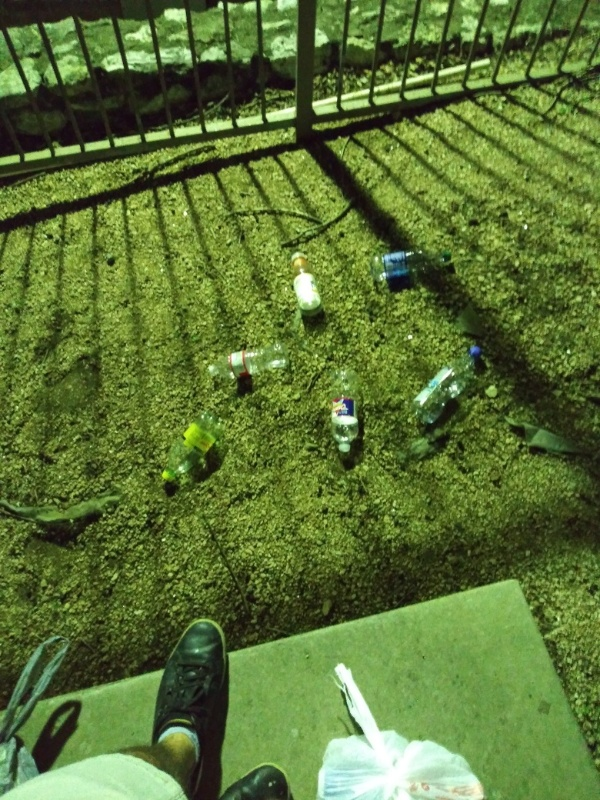bottle: (408, 343, 485, 432), (154, 408, 230, 493), (365, 241, 458, 288), (205, 342, 291, 385), (327, 363, 362, 457), (282, 245, 328, 316)
